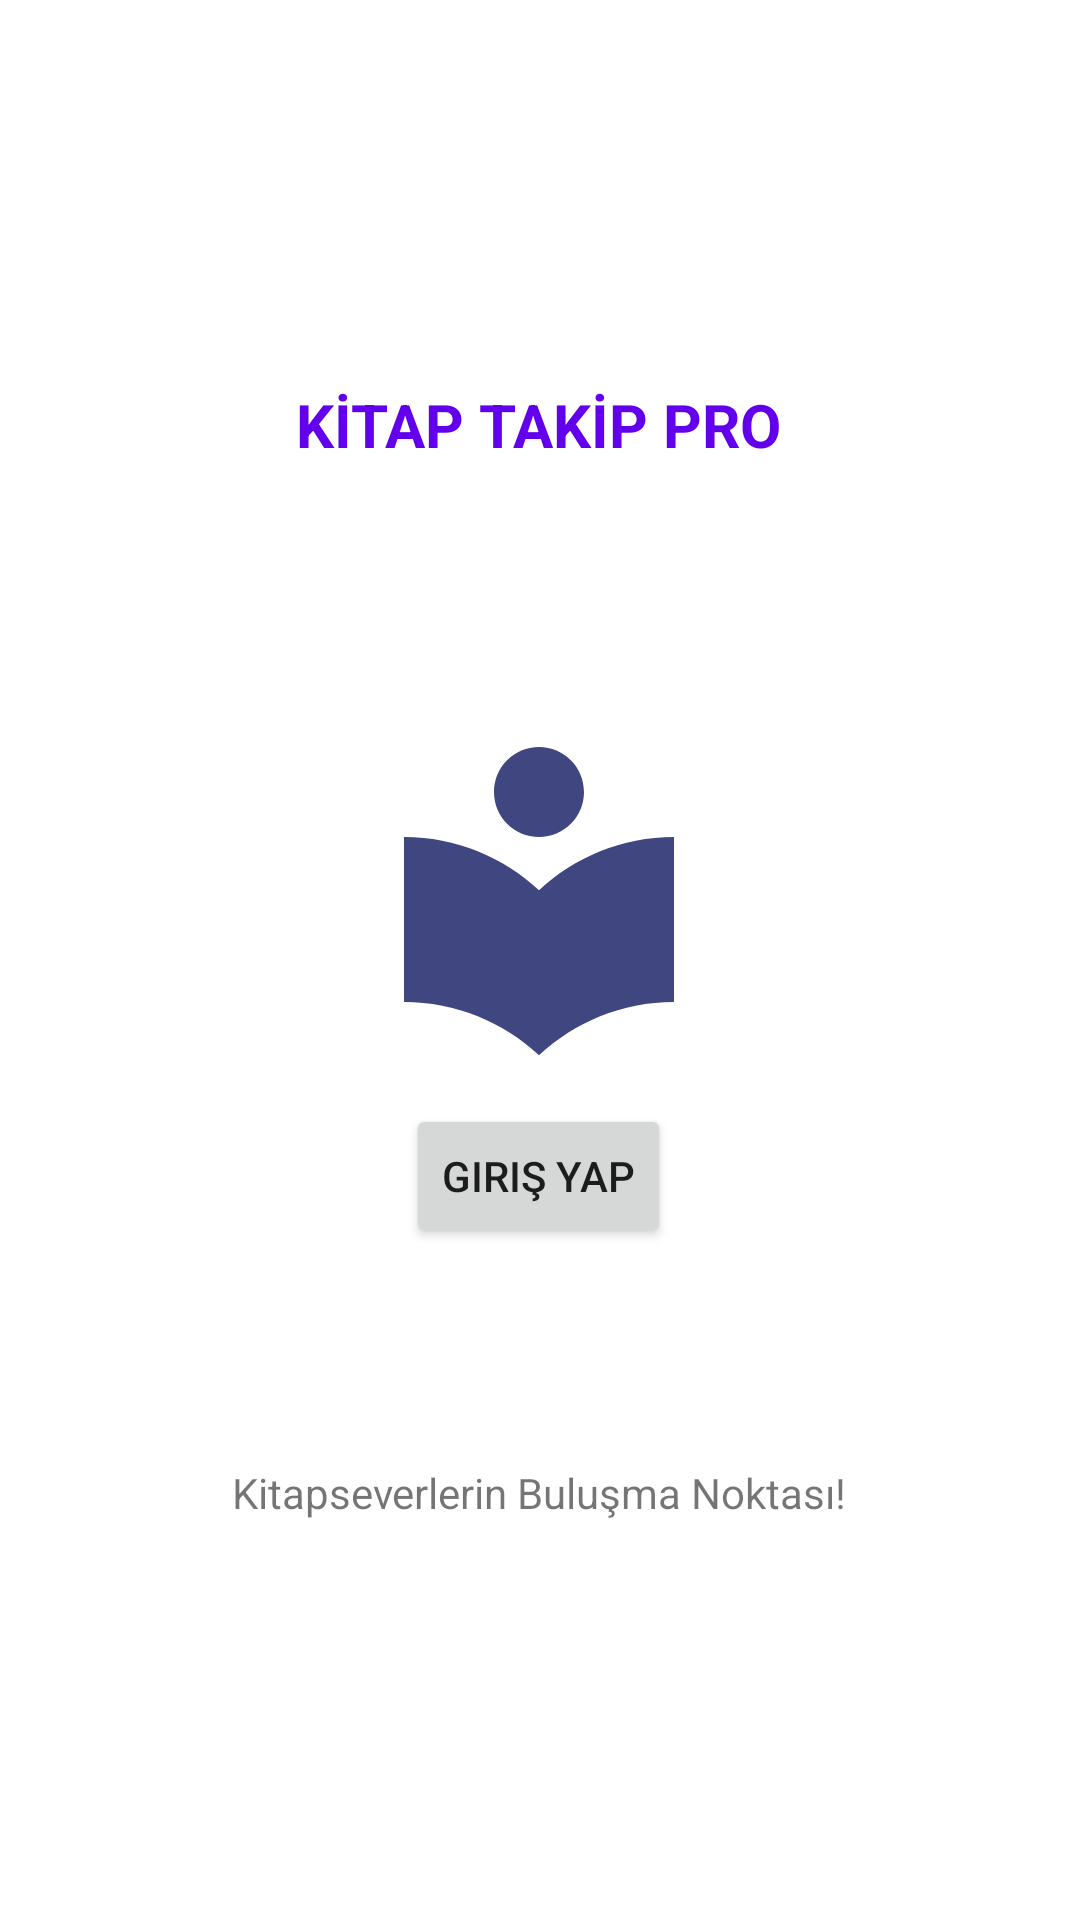

Screen size 1080×1920. Icon name, then its center in pixels as point (x, y):
local library: point (539, 901)
